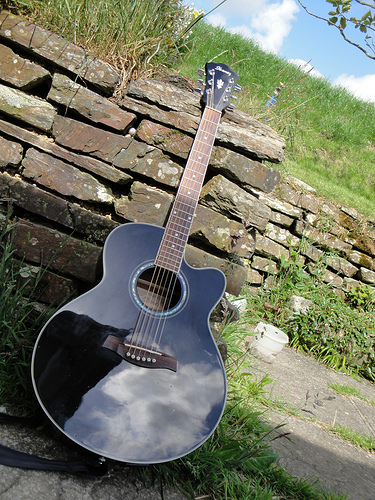guitar: (26, 57, 239, 471)
